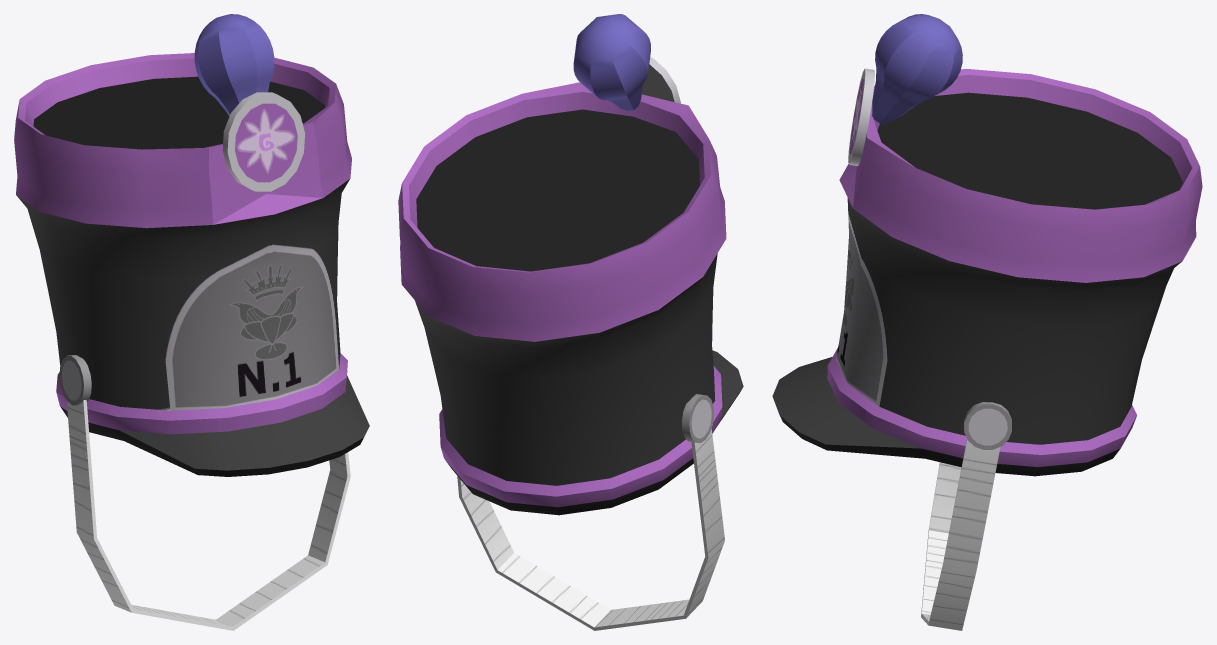
The model's file is riflemanHat.obj.
3 renders of one model, left to right at view 1: azimuth 30°, elevation 25°; view 2: azimuth 150°, elevation 25°; view 3: azimuth 270°, elevation 25°, orthographic. The views are drawn at different scales.
Parts seen in each view (by area): view 1: riflemanShakoUpload; view 2: riflemanShakoUpload; view 3: riflemanShakoUpload.
Part boxes in pixels (bbox=[...]): riflemanShakoUpload: bbox=[14, 14, 369, 630]; riflemanShakoUpload: bbox=[398, 14, 743, 630]; riflemanShakoUpload: bbox=[772, 14, 1202, 630].
Size of the model in its own units: 0.6855 by 1.41 by 0.9057.
